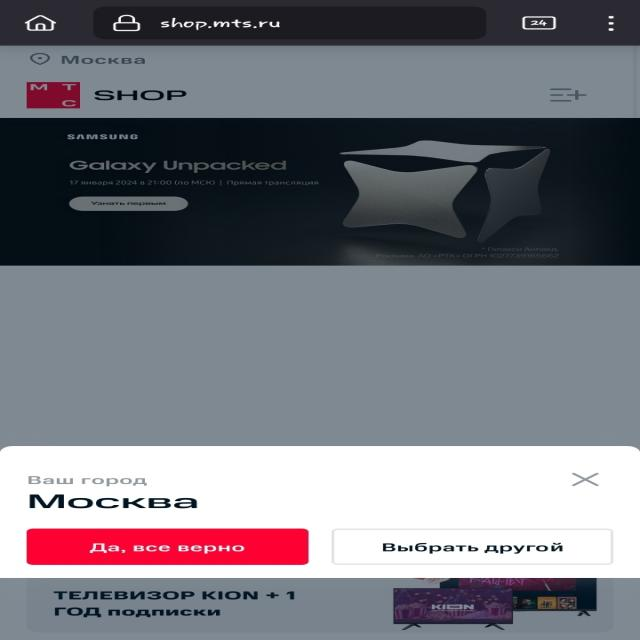button: (29, 528, 311, 566), (333, 528, 615, 564), (567, 468, 603, 490)
site: (0, 446, 640, 578)
